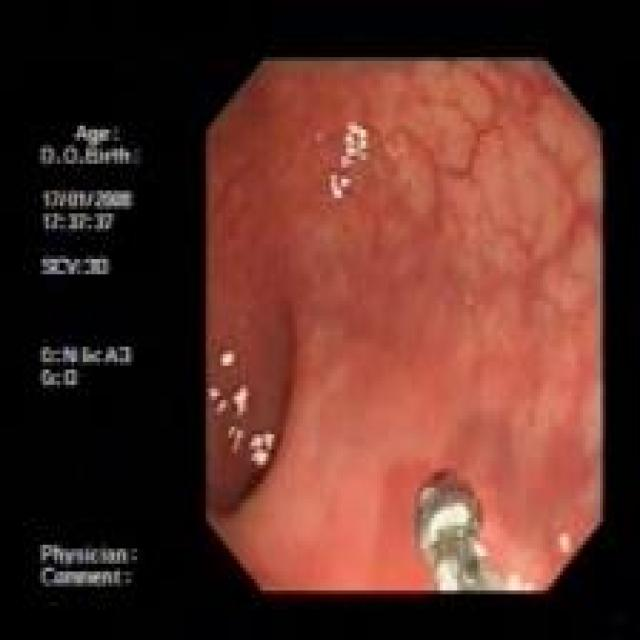color misalignment: (36, 118, 140, 597)
instrument: (412, 466, 506, 590)
specularity: (426, 500, 472, 541), (338, 116, 373, 162), (248, 430, 278, 470), (433, 557, 460, 589), (328, 167, 352, 202), (232, 381, 253, 417), (216, 346, 238, 371), (226, 424, 242, 452)
